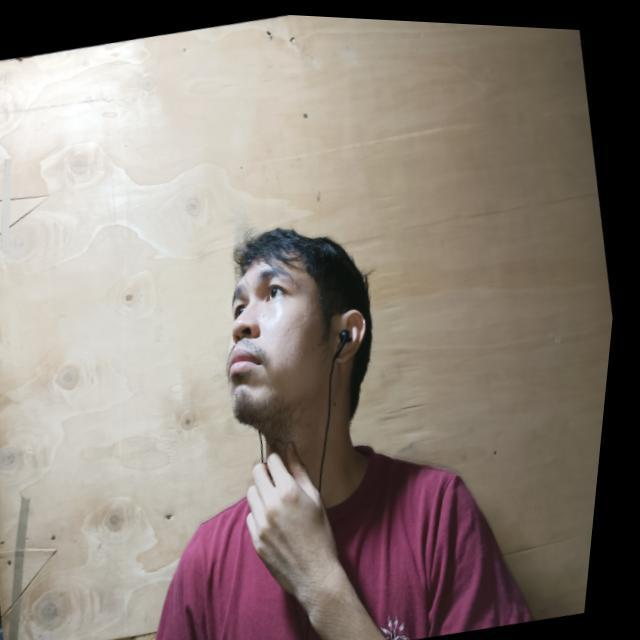Nonhelmet: (220, 223, 376, 436)
